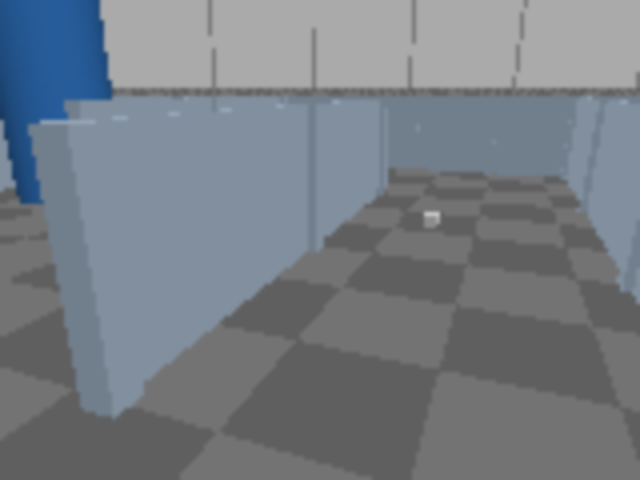puck: (423, 212, 440, 228)
